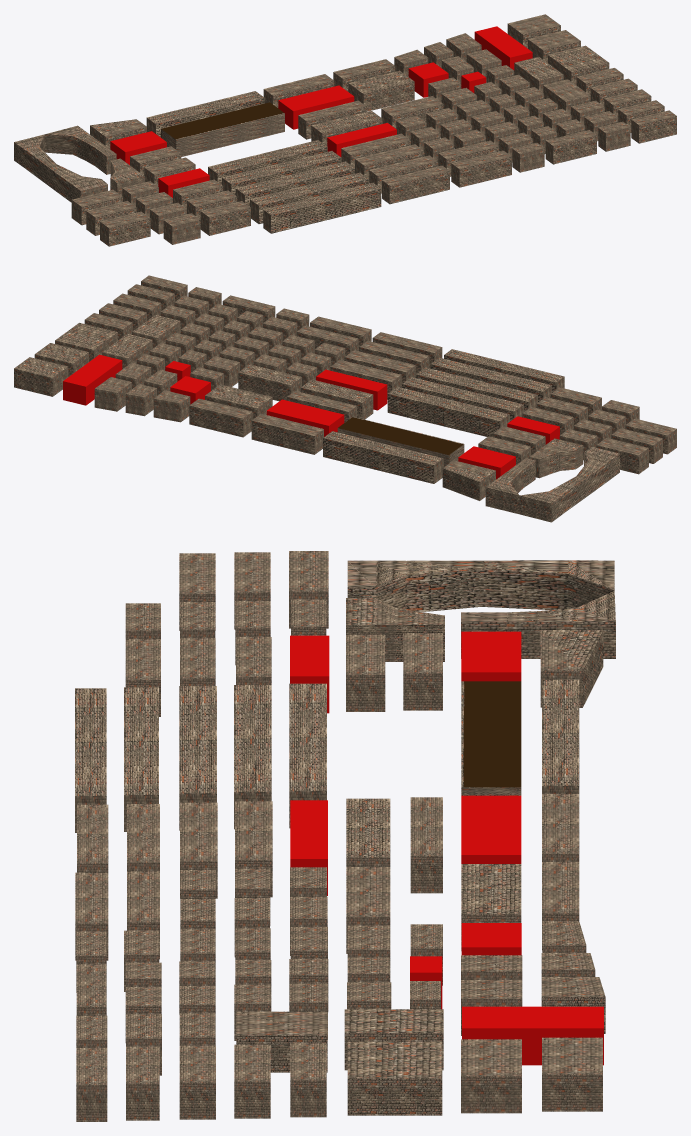
Rendered from Arkham Map v2.fbx.
The picture shows the model from 3 angles, top to bottom: view 1: azimuth 30°, elevation 25°; view 2: azimuth 150°, elevation 25°; view 3: azimuth 270°, elevation 25°; orthographic projection. The views are drawn at different scales.
Parts seen in each view (by area): view 1: Arkham; view 2: Arkham; view 3: Arkham.
Part boxes in pixels (x1,y1,x2,y2): Arkham: [14, 14, 676, 246]; Arkham: [14, 275, 676, 522]; Arkham: [75, 551, 615, 1121].
Bounding box in the file's own units: 30.67 × 1.29 × 13.24.
